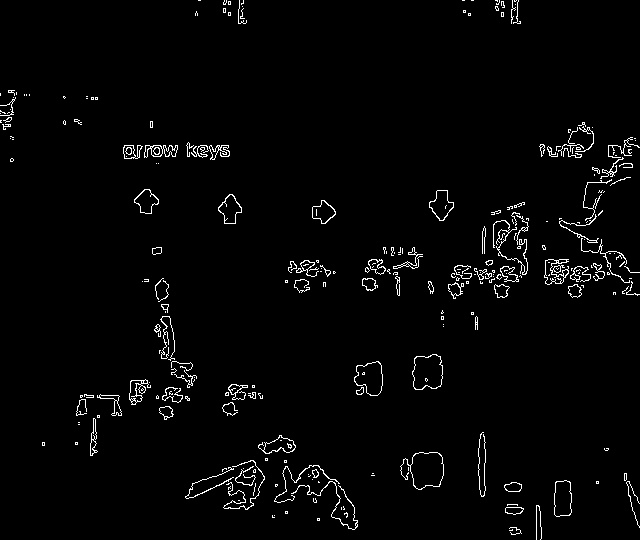down: (424, 186, 459, 224)
right: (306, 197, 342, 228)
up: (214, 191, 247, 229), (130, 186, 165, 219)
